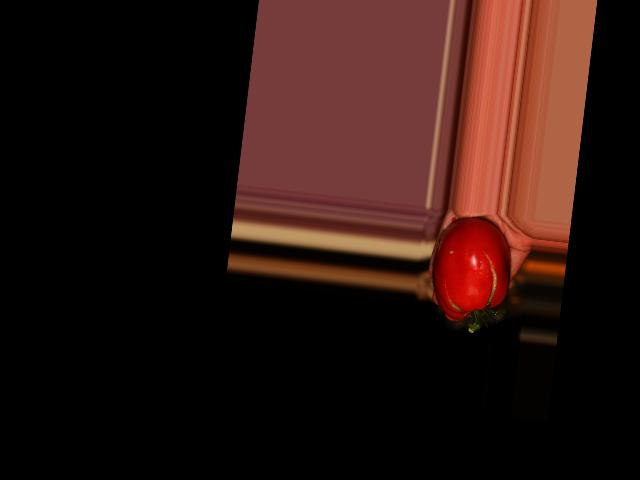tomato: (426, 213, 515, 325)
